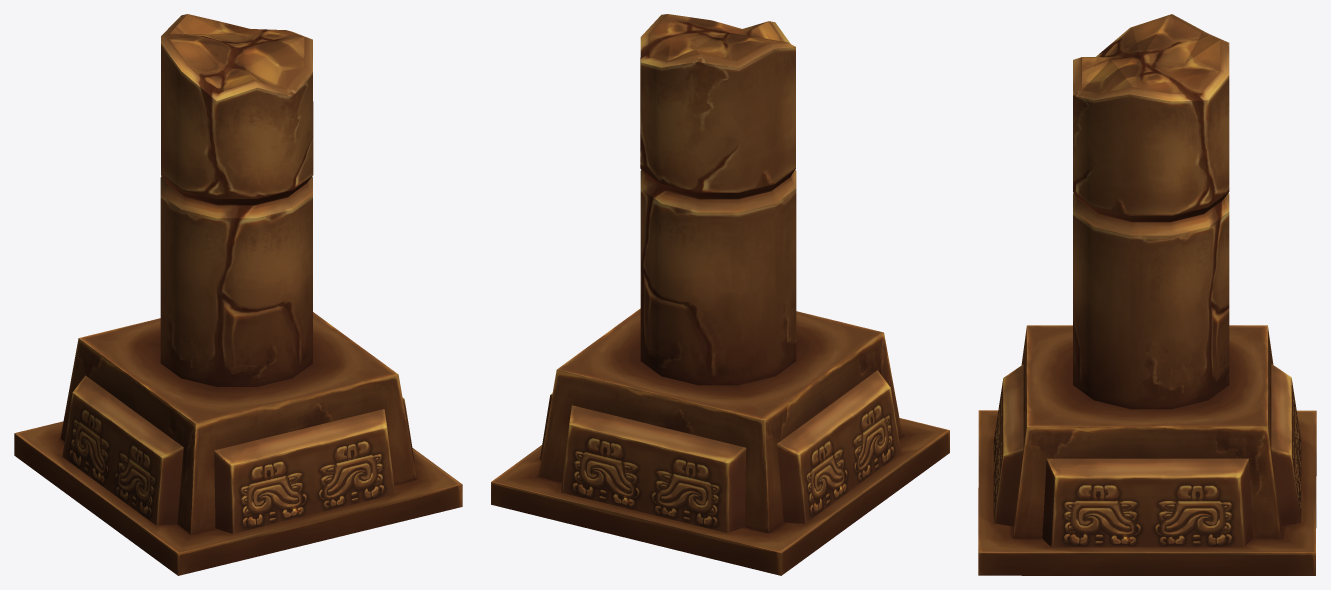
Rendered from 1014_Gidoong_broken.FBX.
The picture shows the model from 3 angles, left to right: view 1: azimuth 30°, elevation 25°; view 2: azimuth 150°, elevation 25°; view 3: azimuth 270°, elevation 25°; orthographic projection. The views are drawn at different scales.
Visible parts, largest first — view 1: Object002; view 2: Object002; view 3: Object002.
Part boxes in pixels (box(x1,y1,x2,y2)): Object002: box(14, 14, 462, 575); Object002: box(491, 14, 949, 575); Object002: box(978, 14, 1316, 575).
Size of the model in its own units: 129 by 194 by 129.
Materials: 1 (1 with a texture image).
